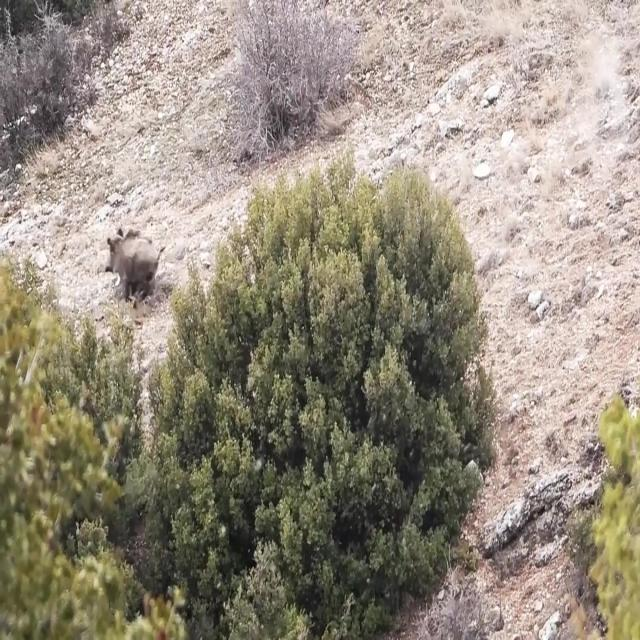pig: (98, 224, 185, 308)
